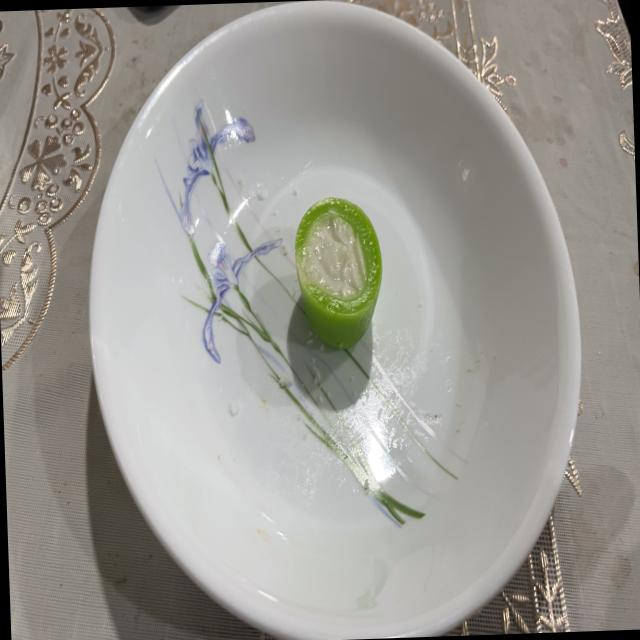nona-manis: (295, 197, 382, 348)
